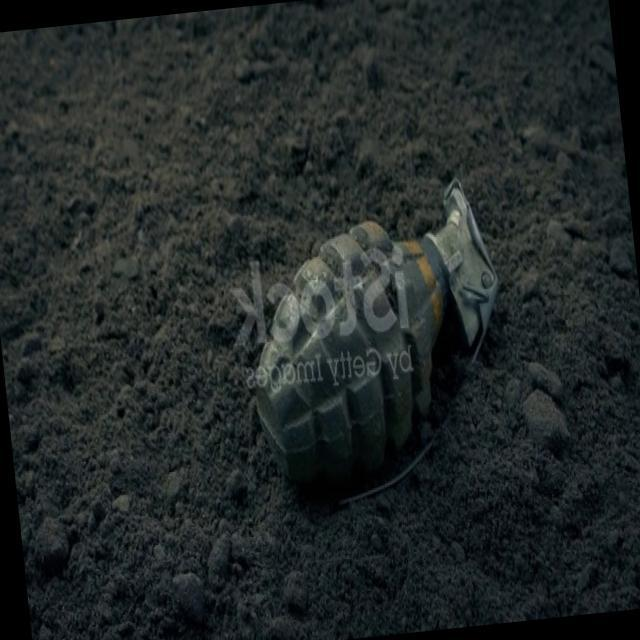grenade: (228, 167, 522, 518)
